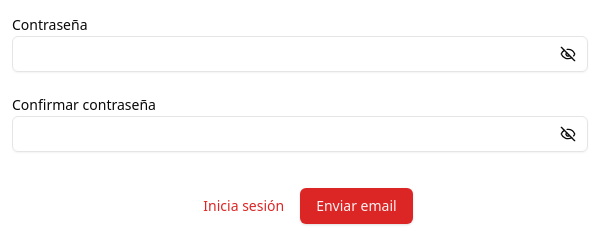
Scenario: RecoveryForm › shows validation errors for empty fields
This screenshot has width=606, height=242.
Step 1. Click the button "Enviar email" → (356, 206), box [300,188,413,224]
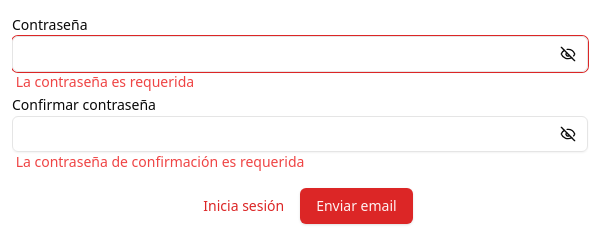
Now the text "La contraseña es requerida" is shown, box [16,72,194,91]
Now the text "La contraseña de confirmación es requerida" is shown, box [16,152,304,171]
